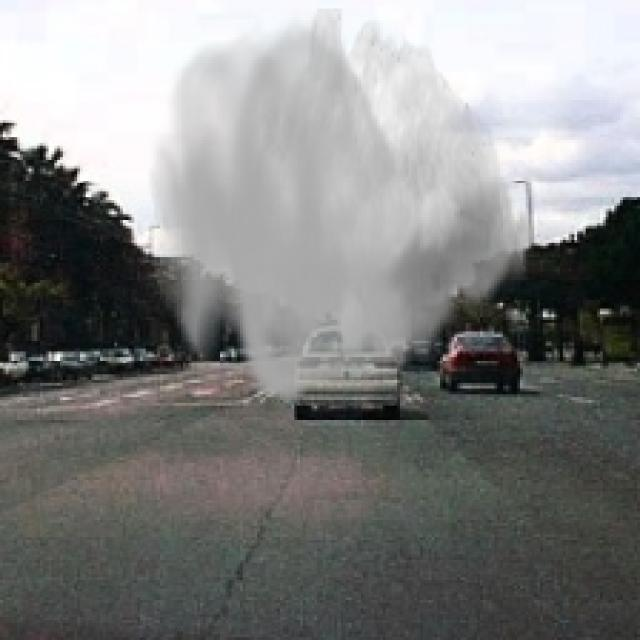Smoke: (148, 9, 538, 408)
